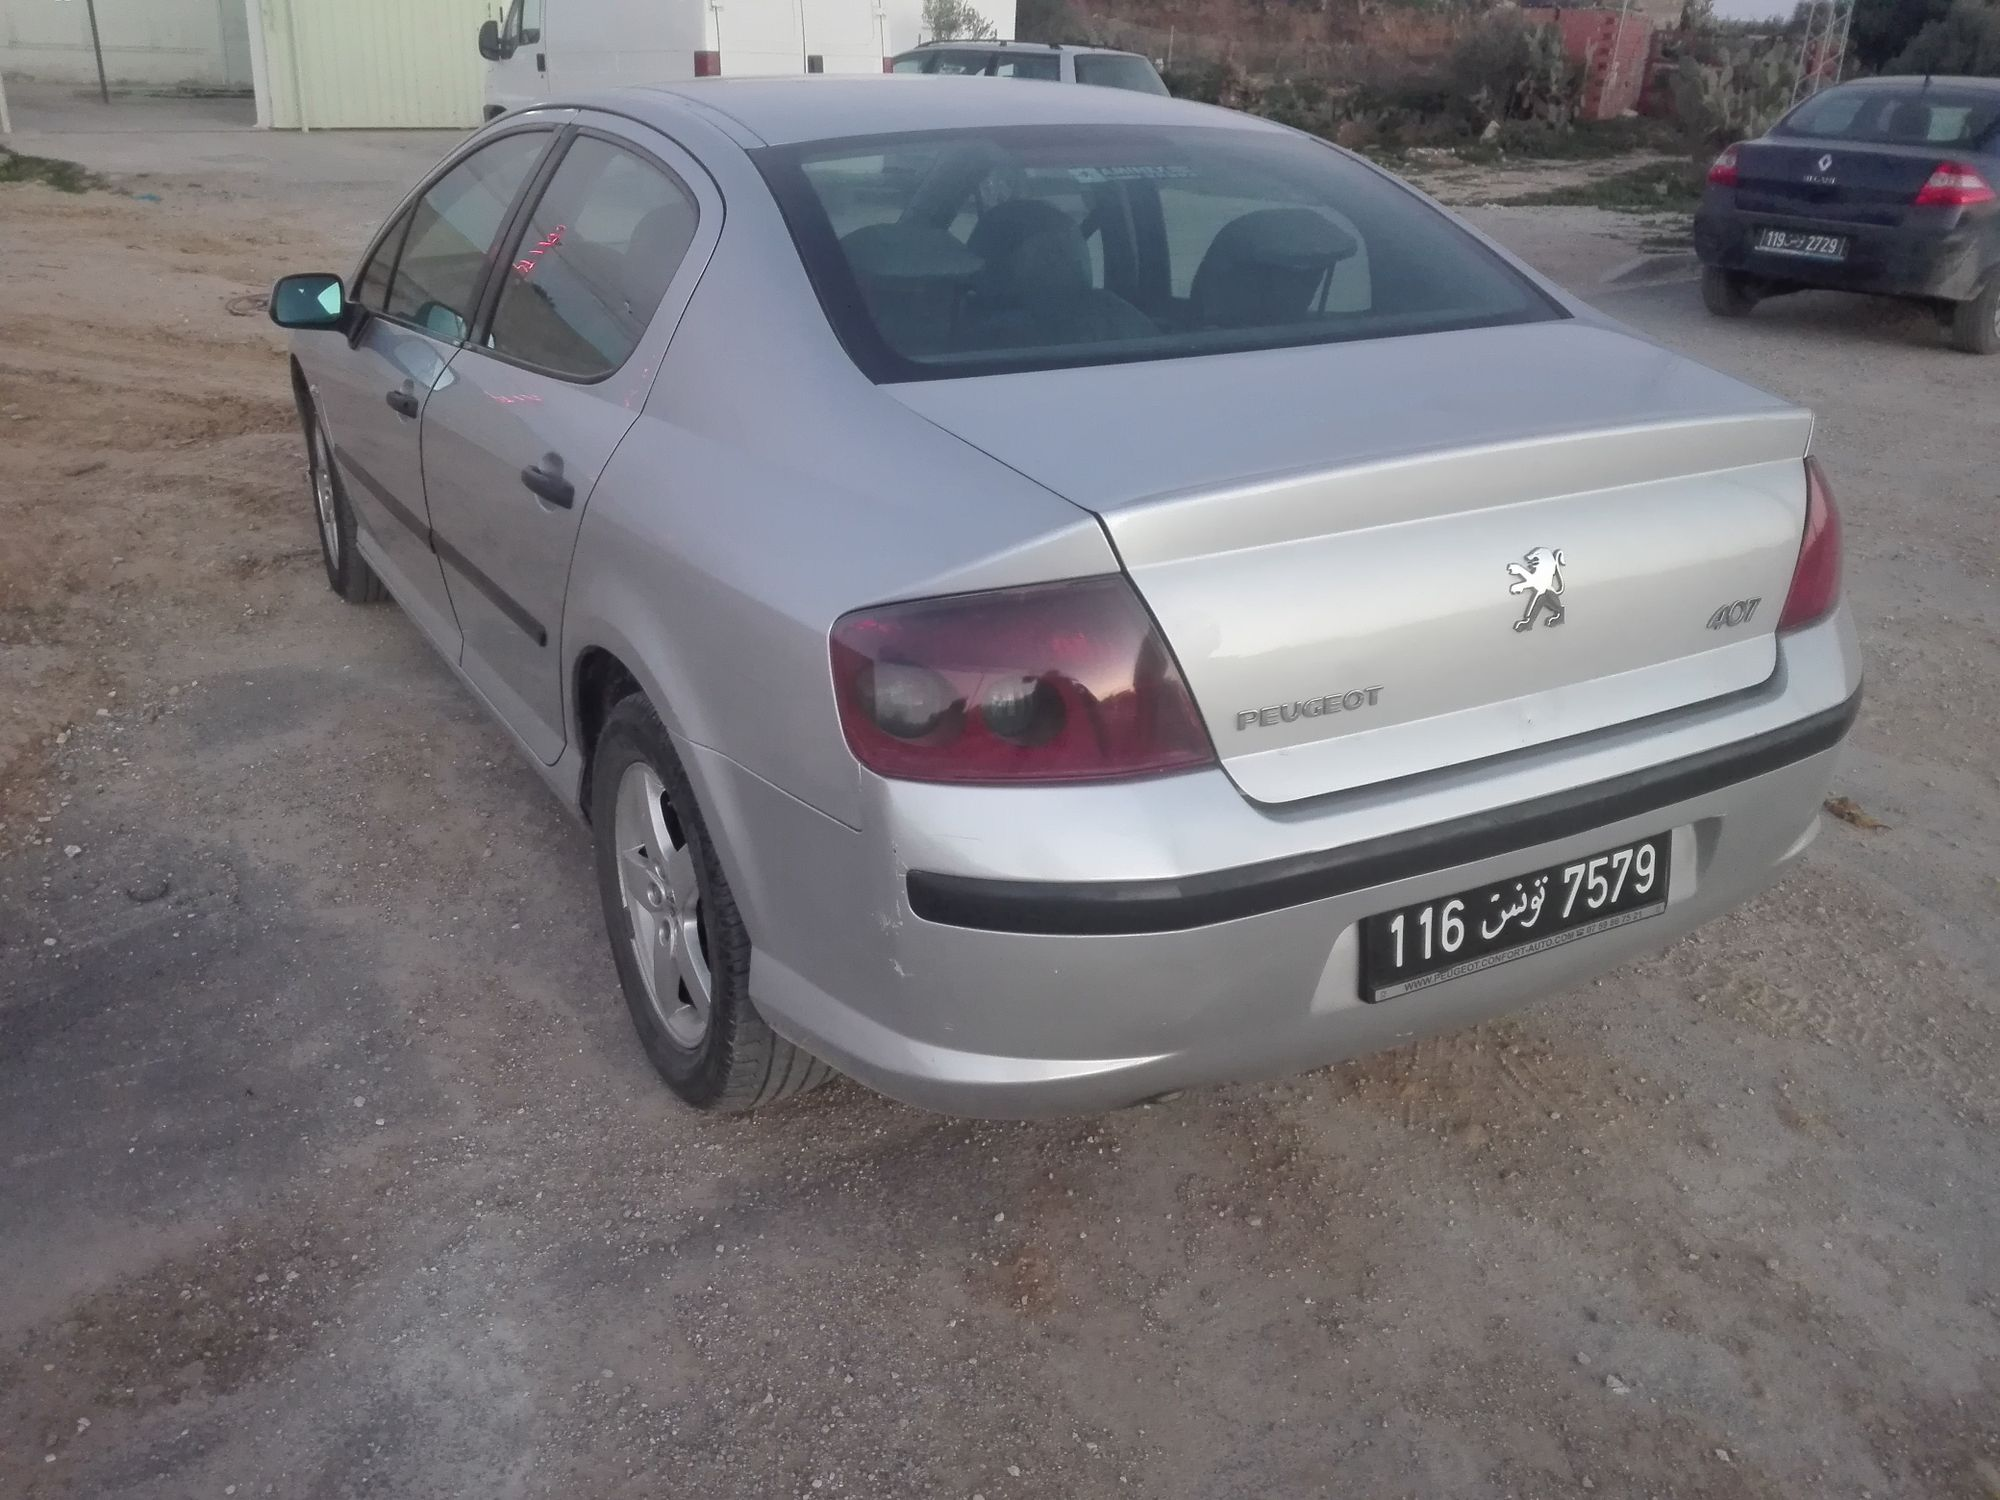LP: (1364, 824, 1670, 973)
